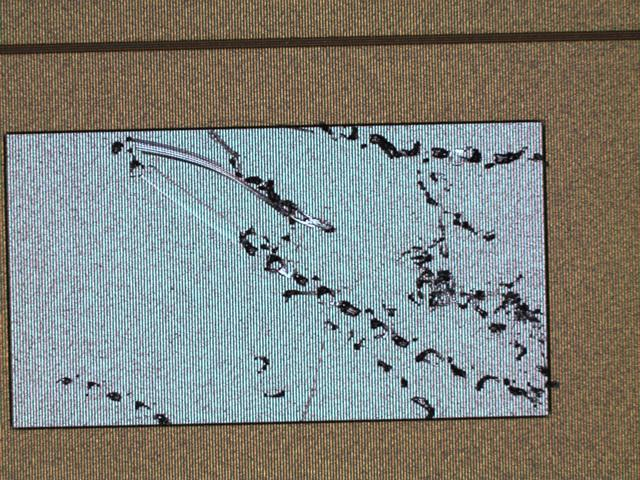SCRATCH: (55, 109, 561, 455)
